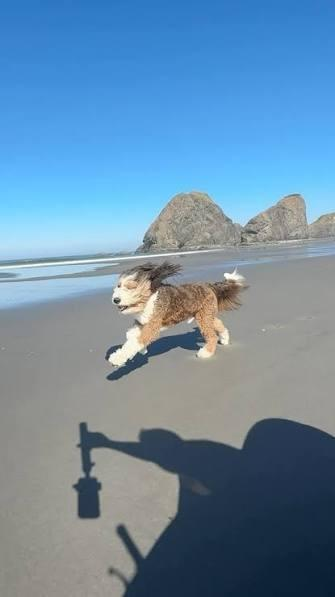adult_dog: (105, 264, 249, 365)
